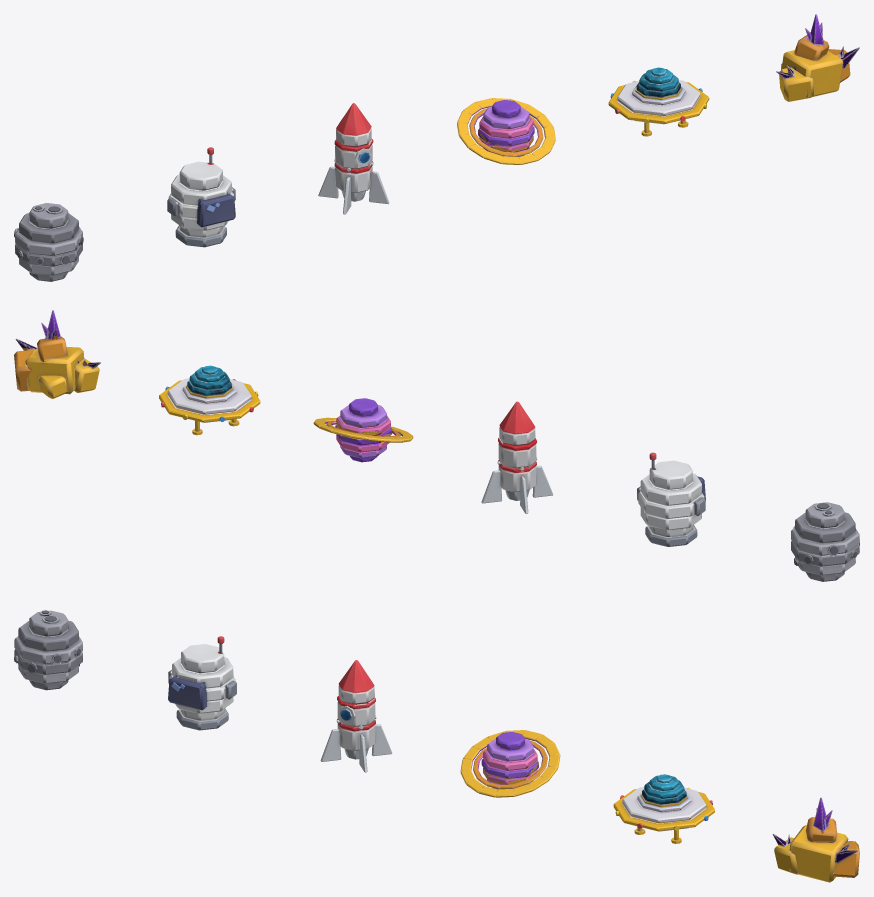
File: Objets_Cosmos_Rig.fbx
3 renders of one model, top to bottom at view 1: azimuth 30°, elevation 25°; view 2: azimuth 150°, elevation 25°; view 3: azimuth 330°, elevation 25°, orthographic.
Parts seen in each view (by area): view 1: Planete, Casque, RocheLunaire, Soucoupe, Fusee, Meteorite; view 2: Casque, RocheLunaire, Meteorite, Soucoupe, Fusee, Planete; view 3: Planete, Casque, RocheLunaire, Meteorite, Soucoupe, Fusee.
Boxes of the visible parts, bbox=[...] form: Planete: bbox=[457, 98, 555, 164]; Casque: bbox=[167, 147, 235, 247]; RocheLunaire: bbox=[14, 203, 83, 281]; Soucoupe: bbox=[608, 67, 709, 136]; Fusee: bbox=[318, 103, 389, 214]; Meteorite: bbox=[776, 14, 859, 101]; Casque: bbox=[637, 452, 705, 546]; RocheLunaire: bbox=[791, 502, 859, 581]; Meteorite: bbox=[14, 310, 100, 398]; Soucoupe: bbox=[159, 365, 260, 435]; Fusee: bbox=[481, 401, 553, 513]; Planete: bbox=[313, 398, 413, 462]; Planete: bbox=[460, 730, 560, 797]; Casque: bbox=[168, 636, 236, 730]; RocheLunaire: bbox=[14, 610, 82, 690]; Meteorite: bbox=[772, 797, 859, 882]; Soucoupe: bbox=[613, 774, 714, 843]; Fusee: bbox=[320, 660, 392, 772].
Size of the model in its own units: 52.81 by 6 by 5.37.
Materials: 1 (1 with a texture image).
